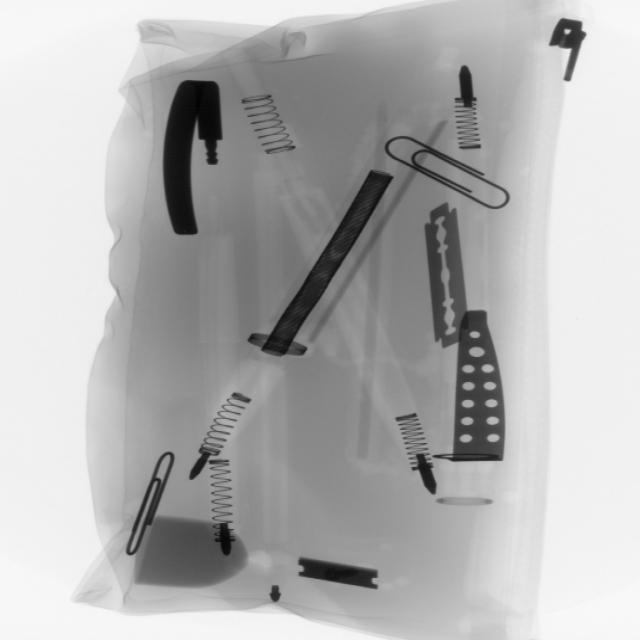BLADE: (418, 196, 480, 361)
